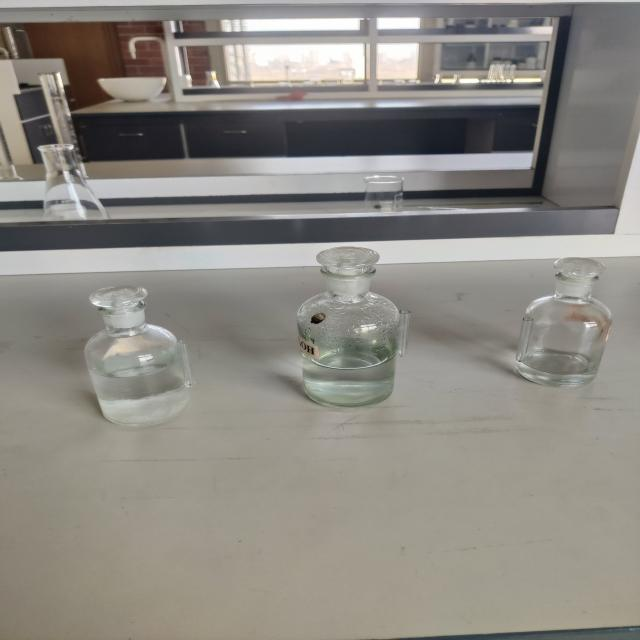Reagent_Bottle: (265, 224, 435, 430), (67, 267, 217, 440), (498, 221, 632, 400)
